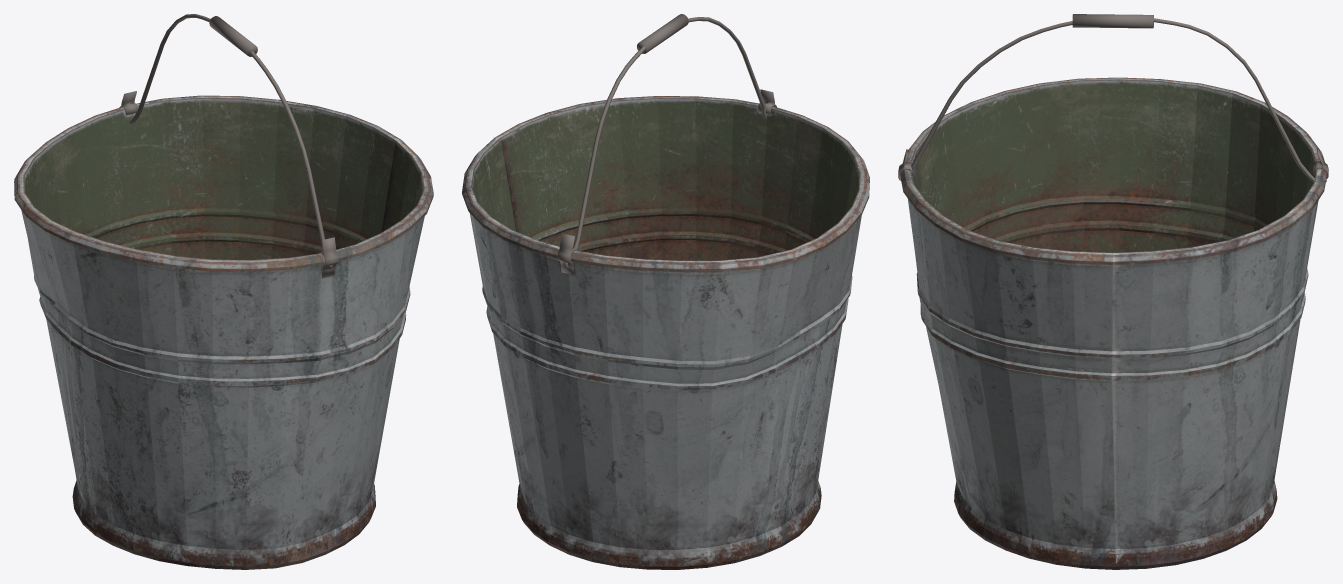
Rendered from BucketModel.fbx.
3 views of the same model, side by side, from view 1: azimuth 30°, elevation 25°; view 2: azimuth 150°, elevation 25°; view 3: azimuth 270°, elevation 25° (orthographic). The views are drawn at different scales.
Parts seen in each view (by area): view 1: BucketModel; view 2: BucketModel; view 3: BucketModel.
Part boxes in pixels (x1=…): BucketModel: x1=14, y1=14, x2=433, y2=569; BucketModel: x1=462, y1=14, x2=869, y2=569; BucketModel: x1=898, y1=14, x2=1328, y2=569.
Size of the model in its own units: 69.27 by 88.14 by 69.61.
